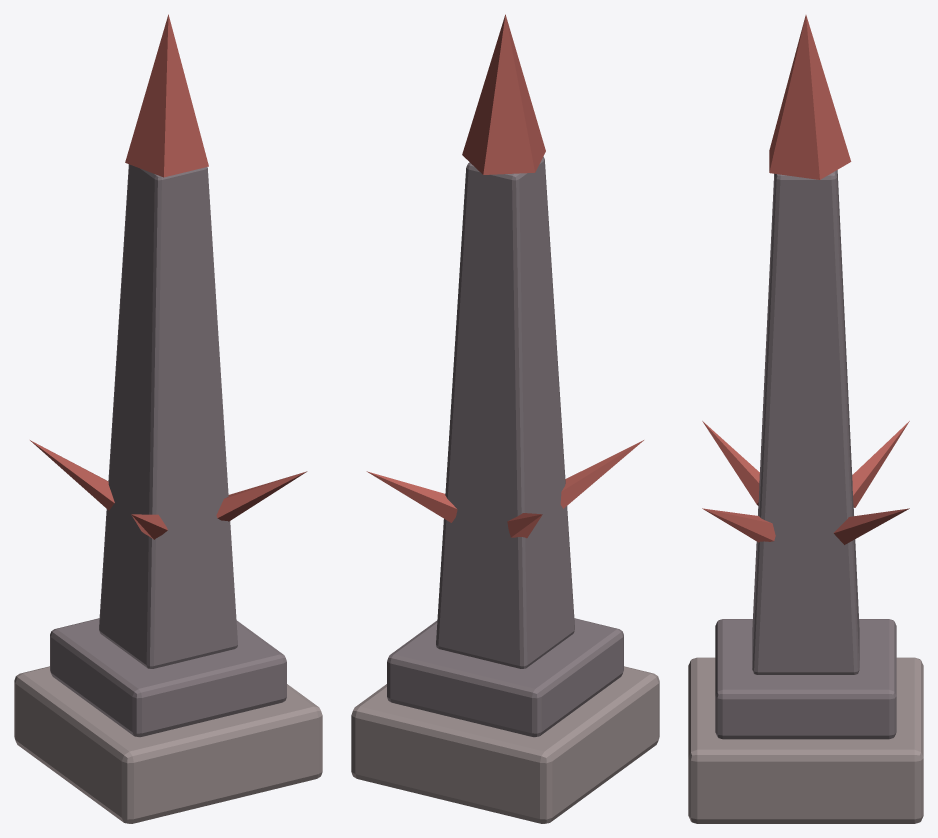
File: effigy_dusk.glb
3 views of the same model, side by side, from view 1: azimuth 30°, elevation 25°; view 2: azimuth 150°, elevation 25°; view 3: azimuth 270°, elevation 25° (orthographic). The views are drawn at different scales.
Parts seen in each view (by area): view 1: obelisk, pedestal, pedestal2, tip, s3, s1, s2; view 2: obelisk, pedestal, pedestal2, tip, s0, s2, s1; view 3: obelisk, pedestal, pedestal2, tip, s3, s1, s2, s0.
Part boxes in pixels (bbox=[...]): obelisk: bbox=[99, 164, 237, 668]; pedestal: bbox=[14, 666, 322, 823]; pedestal2: bbox=[50, 618, 286, 737]; tip: bbox=[125, 14, 208, 177]; s3: bbox=[216, 471, 307, 521]; s1: bbox=[30, 440, 114, 510]; s2: bbox=[131, 514, 167, 539]; obelisk: bbox=[436, 156, 574, 668]; pedestal: bbox=[351, 666, 659, 823]; pedestal2: bbox=[387, 618, 623, 737]; tip: bbox=[462, 14, 545, 174]; s0: bbox=[366, 471, 457, 522]; s2: bbox=[560, 440, 643, 508]; s1: bbox=[507, 513, 542, 538]; obelisk: bbox=[752, 170, 859, 674]; pedestal: bbox=[688, 657, 923, 823]; pedestal2: bbox=[715, 619, 896, 739]; tip: bbox=[769, 15, 851, 179]; s3: bbox=[702, 508, 775, 542]; s1: bbox=[852, 421, 909, 507]; s2: bbox=[702, 421, 759, 505]; s0: bbox=[833, 508, 909, 544].
Size of the model in its own units: 1.3 by 4.65 by 1.3.
